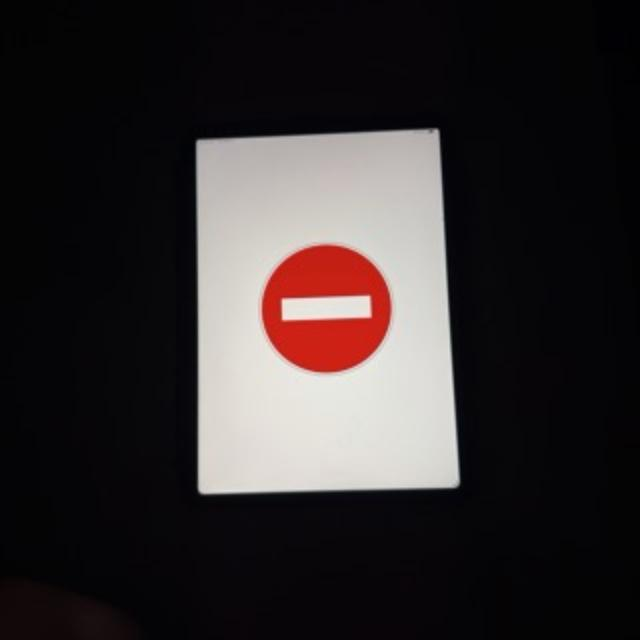NO ENTRY: (262, 244, 388, 370)
